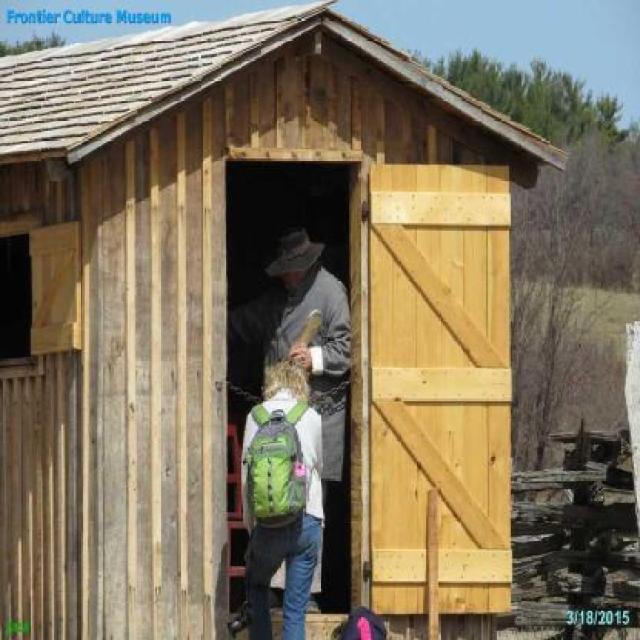backpack: (241, 400, 314, 532)
